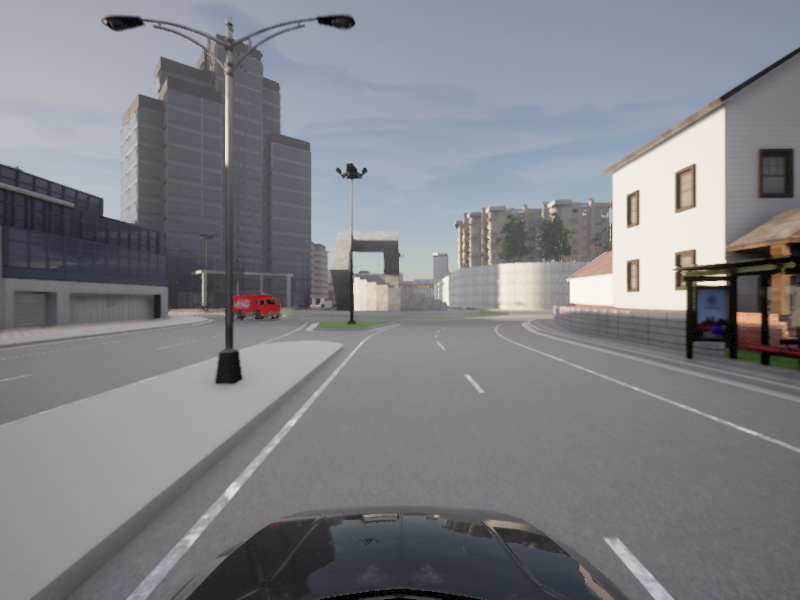vehicle: (230, 294, 285, 321)
